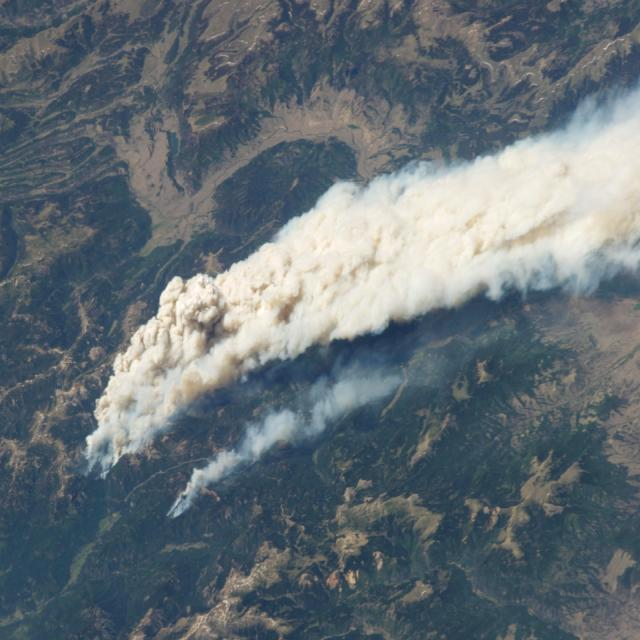Smoke: (98, 128, 632, 452), (171, 366, 370, 516)
